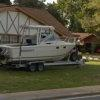Boat: (4, 20, 78, 71)
